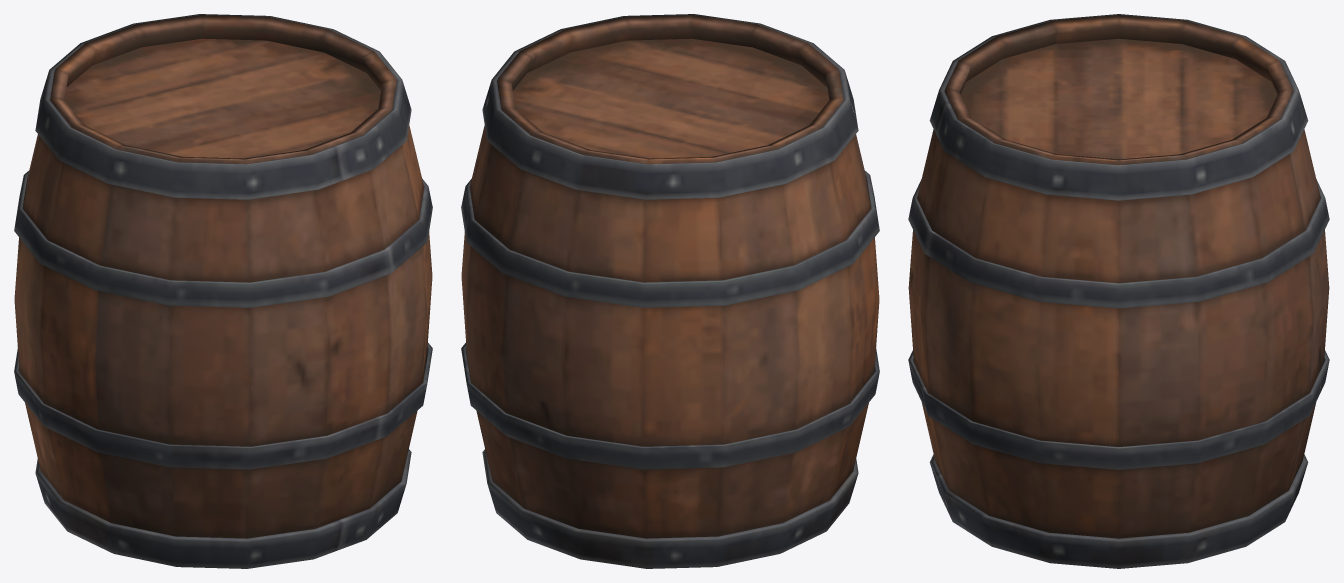
Rendered from objects_un_barrel02.gltf.
The picture shows the model from 3 angles, left to right: view 1: azimuth 30°, elevation 25°; view 2: azimuth 150°, elevation 25°; view 3: azimuth 270°, elevation 25°; orthographic projection.
Parts seen in each view (by area): view 1: um_objects_un_barrel02_model_lod0Shape:objects_un_barrel02_w; view 2: um_objects_un_barrel02_model_lod0Shape:objects_un_barrel02_w; view 3: um_objects_un_barrel02_model_lod0Shape:objects_un_barrel02_w.
Boxes of the visible parts, x1=… form: um_objects_un_barrel02_model_lod0Shape:objects_un_barrel02_w: x1=14, y1=14, x2=432, y2=568; um_objects_un_barrel02_model_lod0Shape:objects_un_barrel02_w: x1=461, y1=14, x2=879, y2=568; um_objects_un_barrel02_model_lod0Shape:objects_un_barrel02_w: x1=908, y1=14, x2=1329, y2=568.
Size of what is drawn, in the model's own units: 1.27 by 1.35 by 1.27.
Materials: 2 (1 with a texture image).
